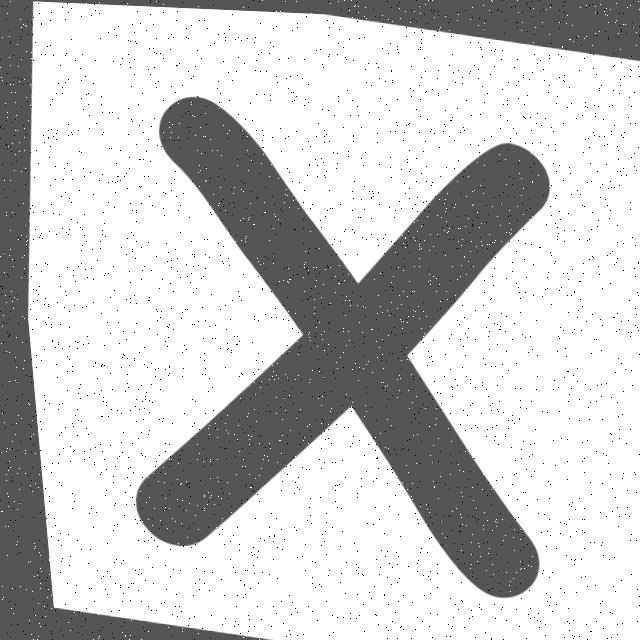X: (126, 95, 545, 592)
